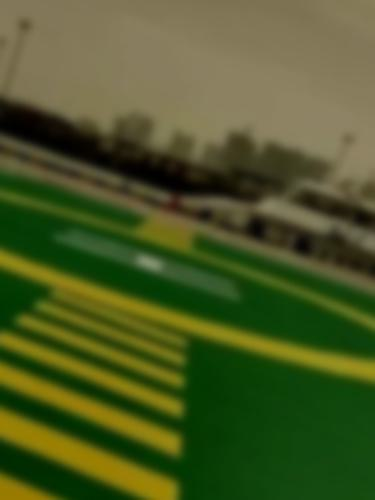Apron: (2, 183, 375, 387)
